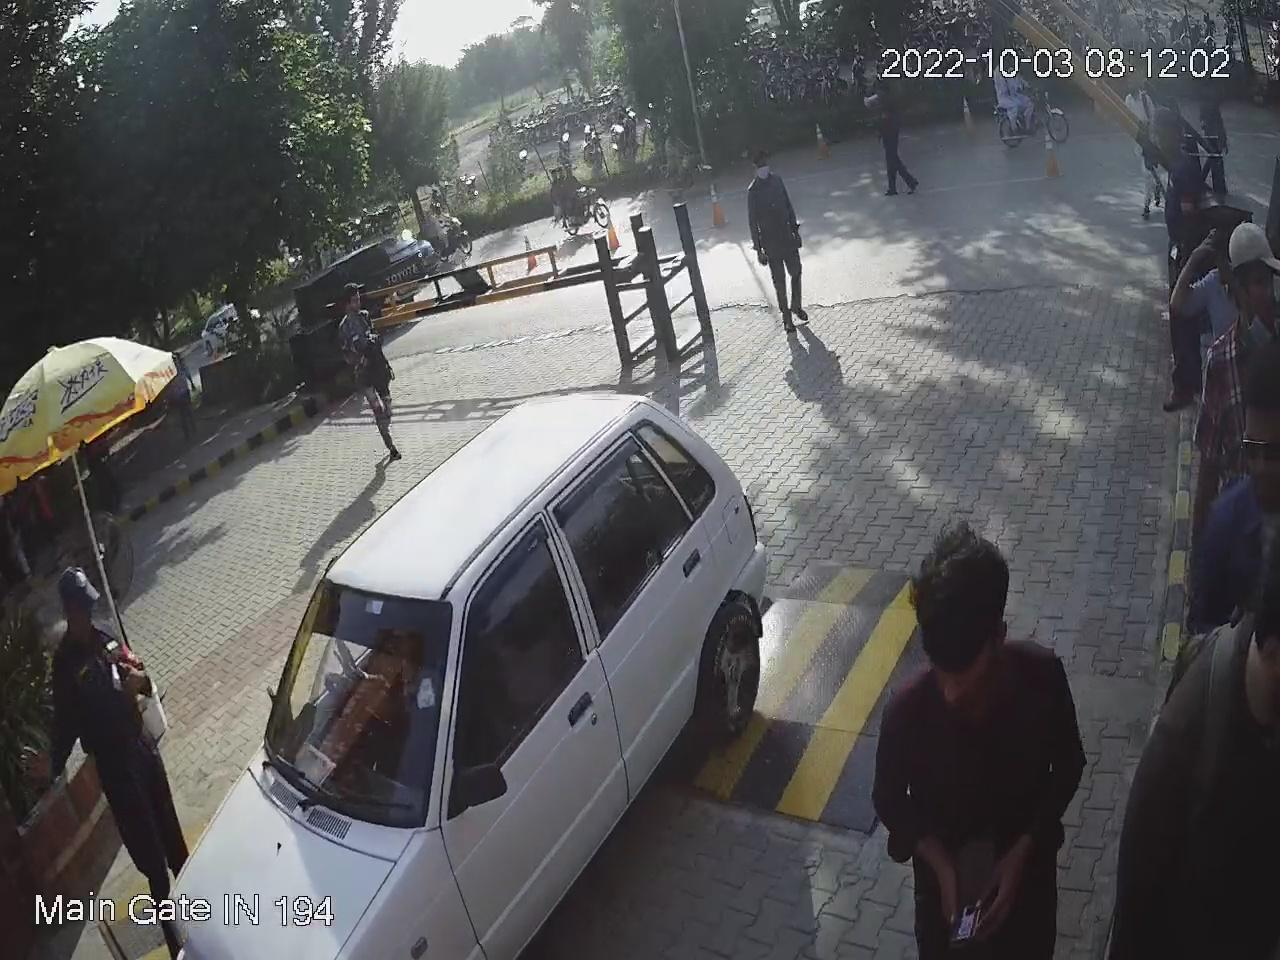windshield: (236, 570, 463, 852)
